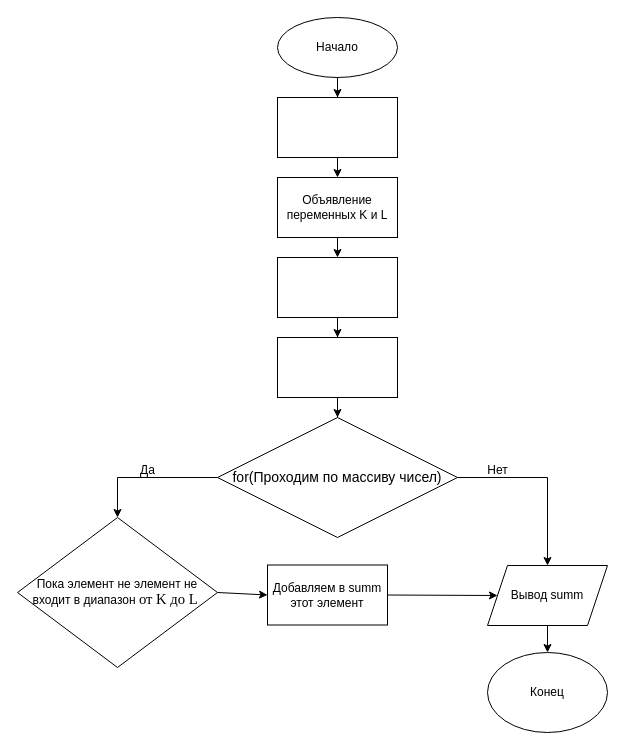
Image size: 625x750. Some labels were removed from this diagram. Here are the shapes that lost their labels. From the top down, the centre of each, then its label:
At point (337, 127): "Объявление массива numbers".
At point (337, 287): "Вызов функункции".
At point (337, 367): "Объявление переменной summ".
